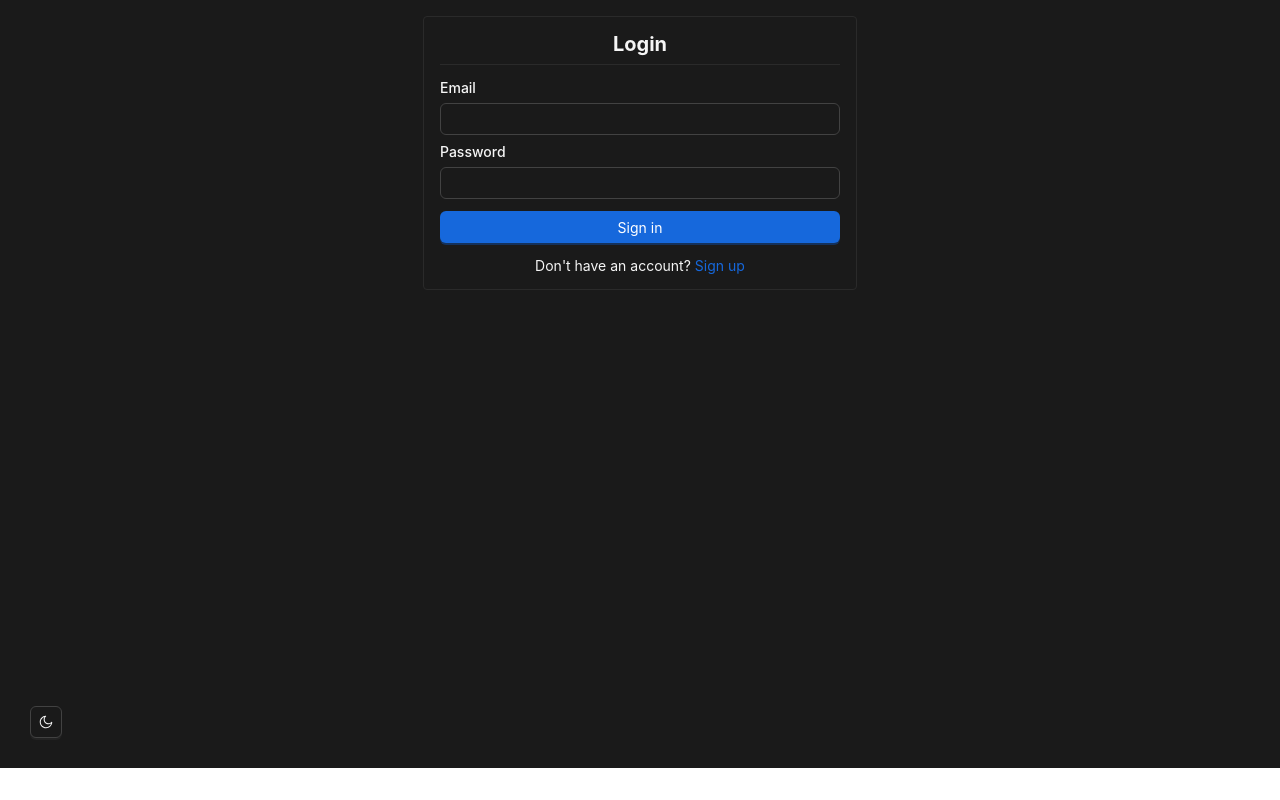
sign-up › shows toast with server error
Type "test@example.com" into the field with test id "email-input".
click(640, 119); type("test@example.com")  # box [440,103,840,135]
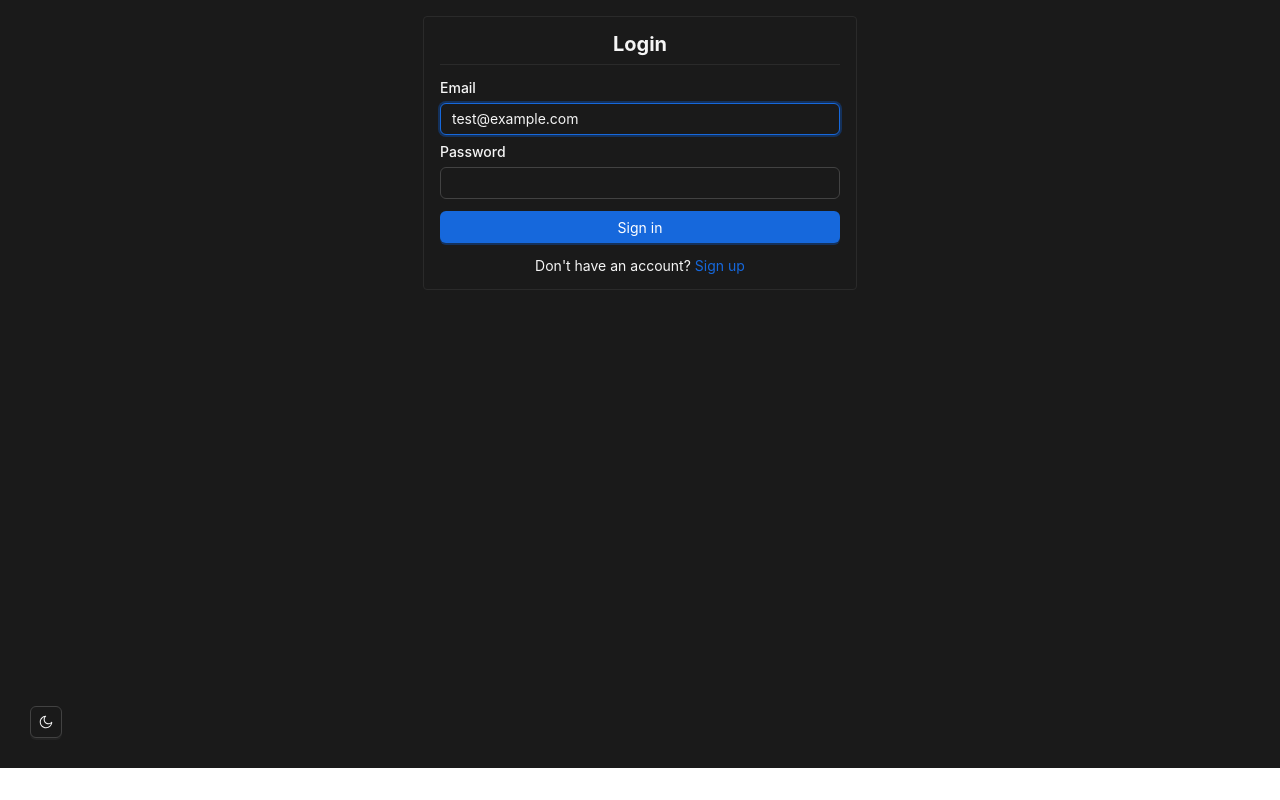
Type "wrongpassword" into the password field with test id "password-input".
click(640, 183); type("wrongpassword")  # box [440,167,840,199]
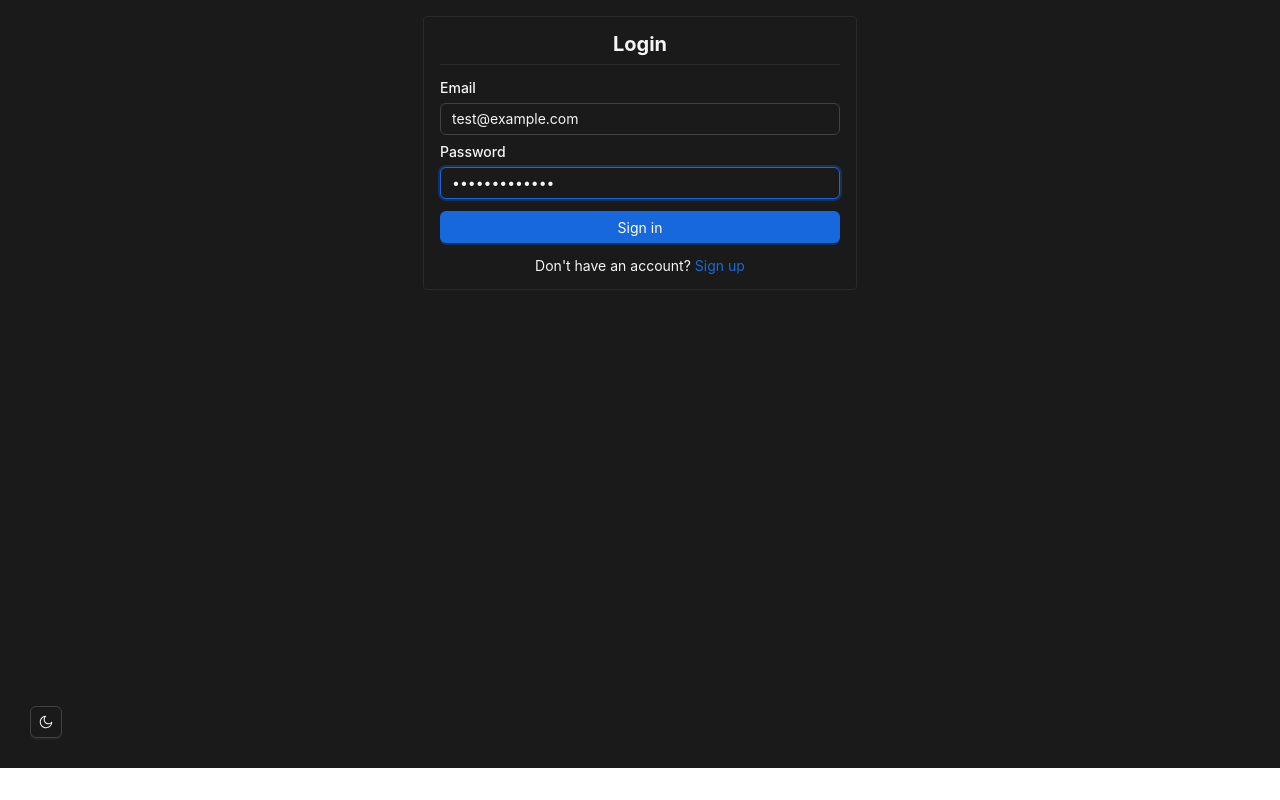
Click the button "Sign in".
click(640, 227)  # box [440,211,840,243]
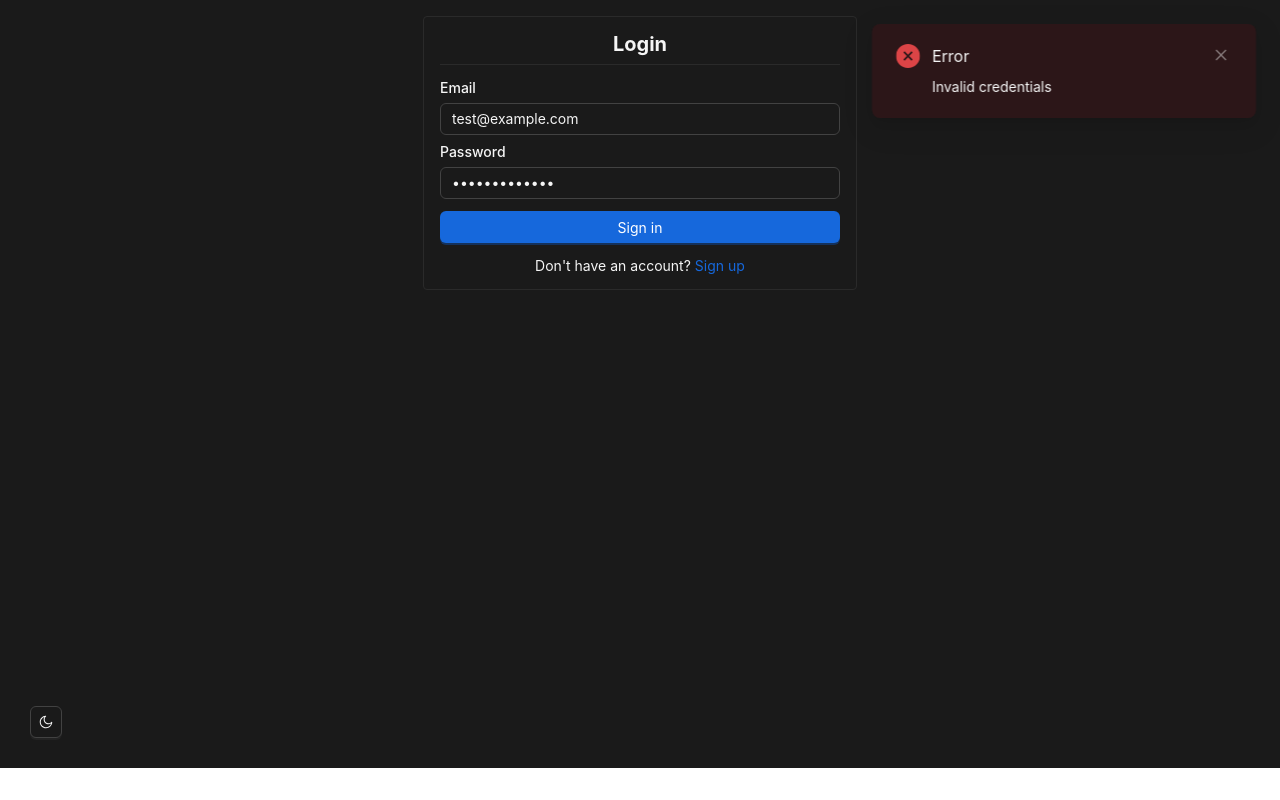
Check: the text "Invalid credentials" is shown, box [932,78,1052,95]
